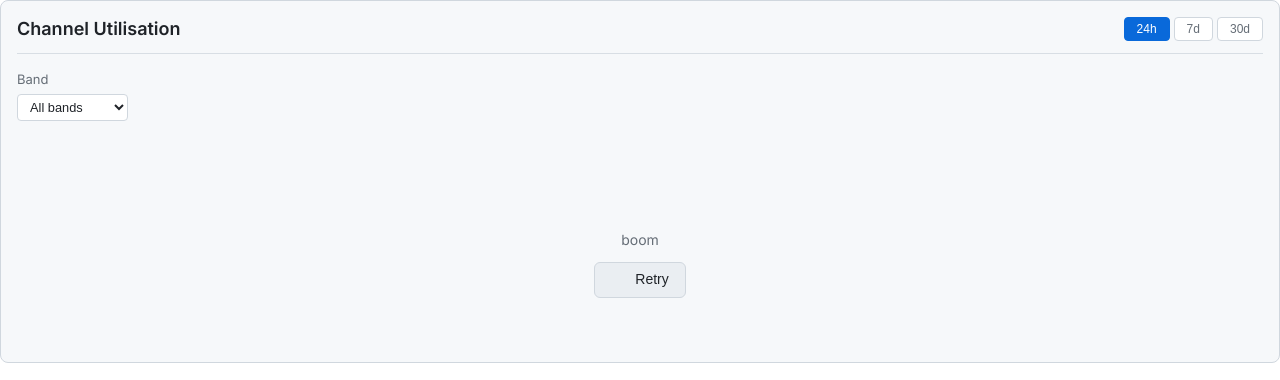
Test case: ChannelUtilizationCard › renders ErrorState with a working retry on a 5xx
expect the message "boom Retry" is shown: met, box [594,184,686,298]
Click the button "Retry": (640, 280) [594,262,686,298]
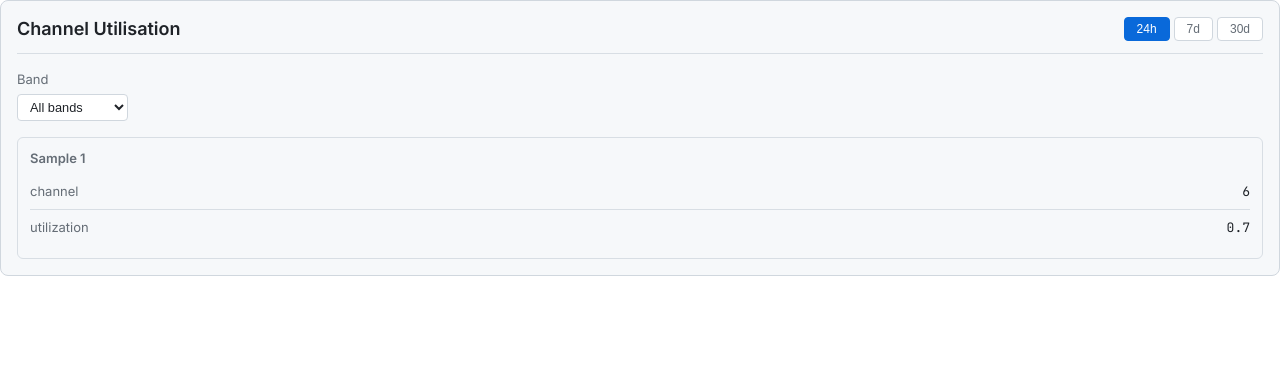
expect the text "0.7" is shown: met, box [1227,218,1250,238]
